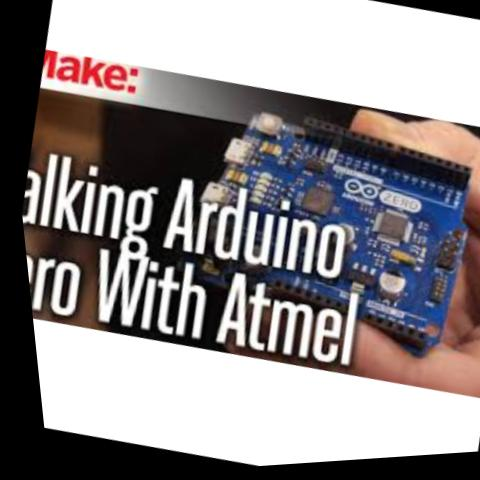Arduino-Zero: (119, 64, 480, 394)
